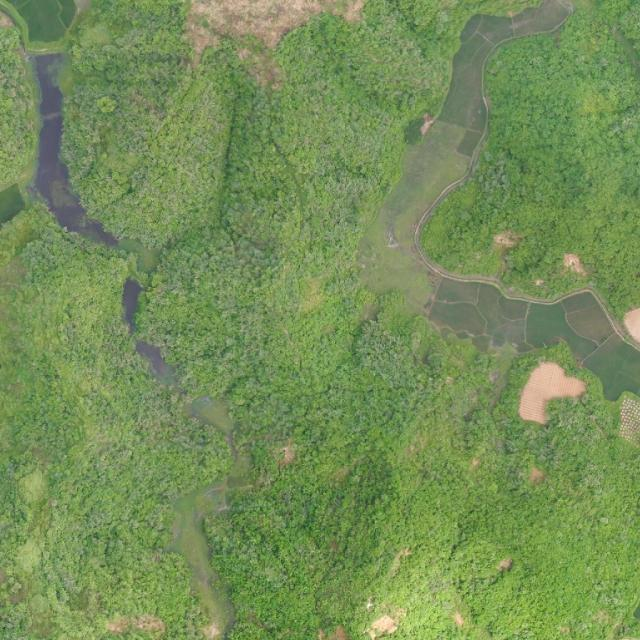agricultural_land: (180, 1, 364, 83), (0, 0, 89, 47)
dryland: (191, 1, 364, 48)
greenland: (132, 333, 187, 400), (116, 277, 142, 334)
wetland: (0, 45, 162, 300), (131, 333, 184, 395), (116, 278, 142, 335)
